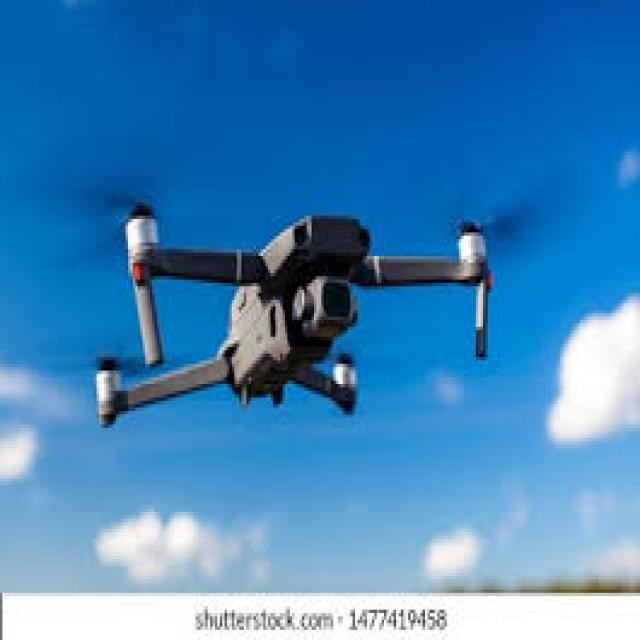drone: (62, 168, 533, 447)
